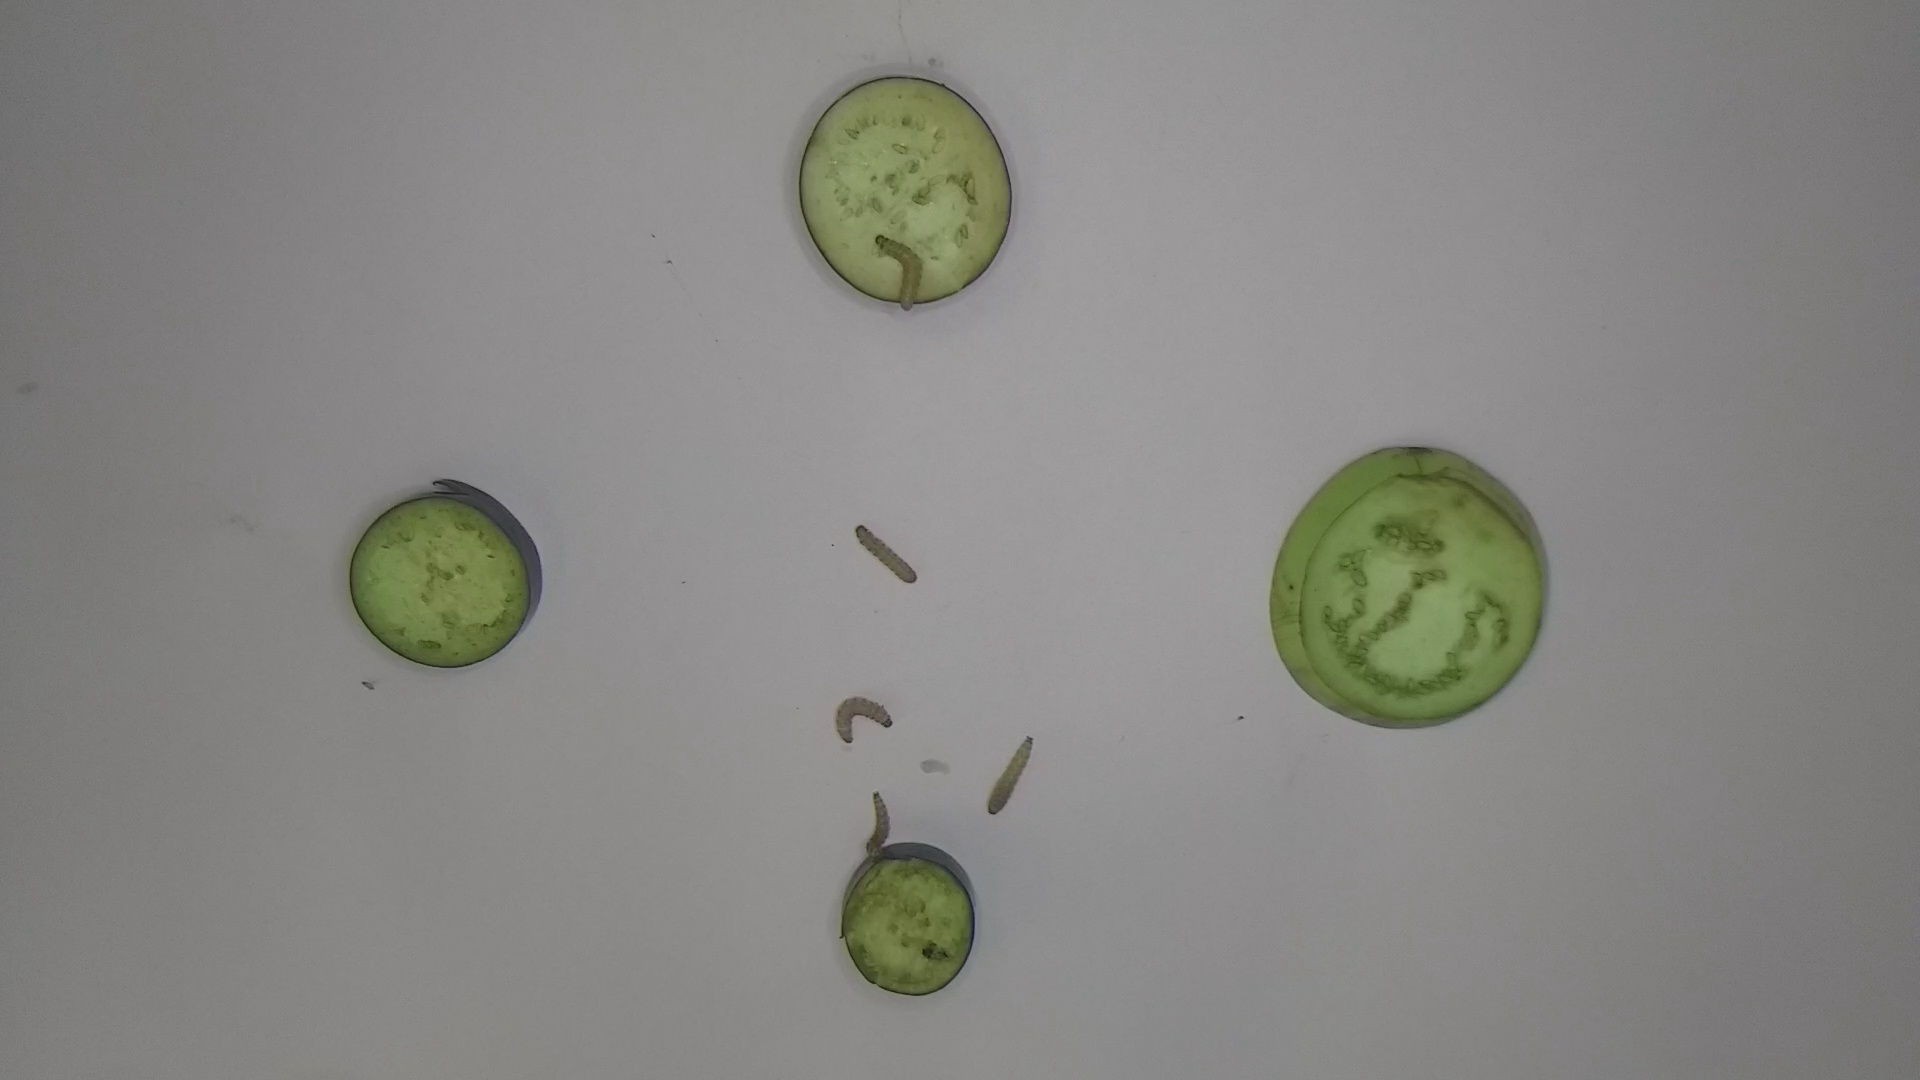efsb: (977, 729, 1036, 829), (853, 520, 926, 601), (864, 227, 926, 316), (832, 690, 903, 752), (858, 786, 895, 858)
eggplant: (1261, 433, 1557, 741), (789, 69, 1019, 310), (338, 471, 553, 679), (837, 835, 984, 1006)
